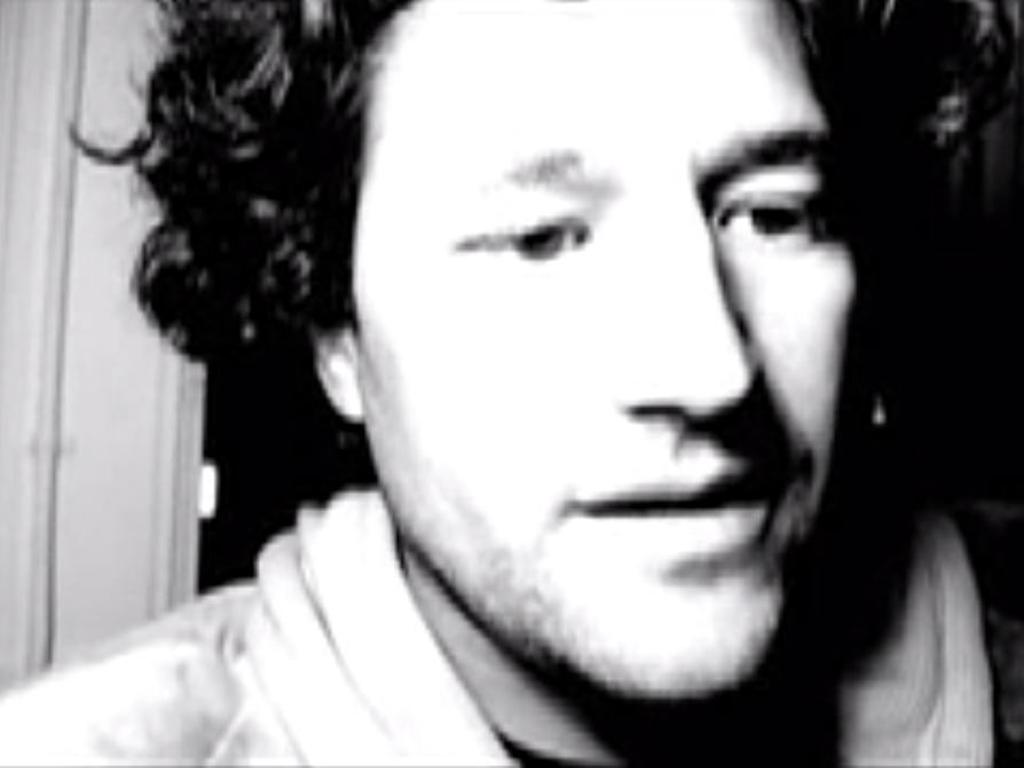face: (358, 4, 858, 702)
